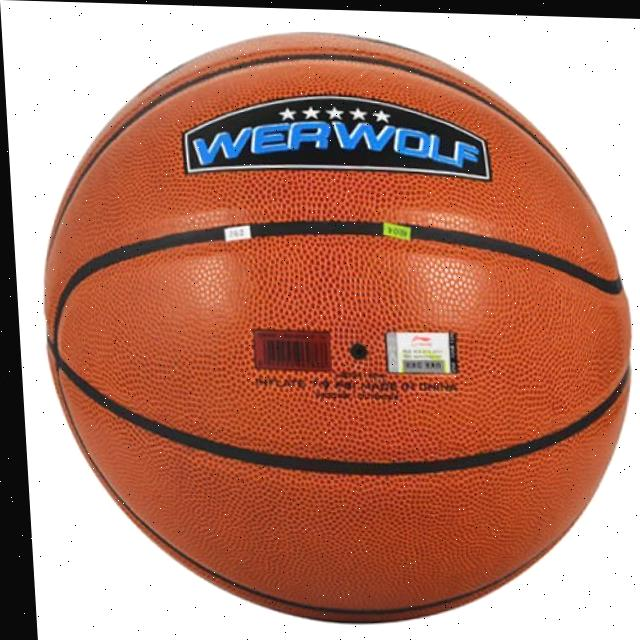Basketball: (29, 25, 640, 632)
